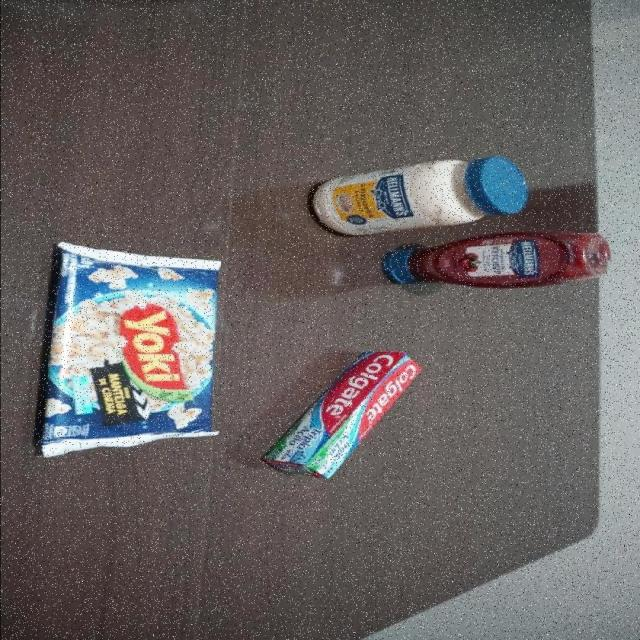Ketchup: (382, 232, 608, 292)
Mayonnaise: (312, 156, 528, 236)
Popcorn: (42, 241, 221, 455)
Toothpaste: (257, 352, 423, 481)
